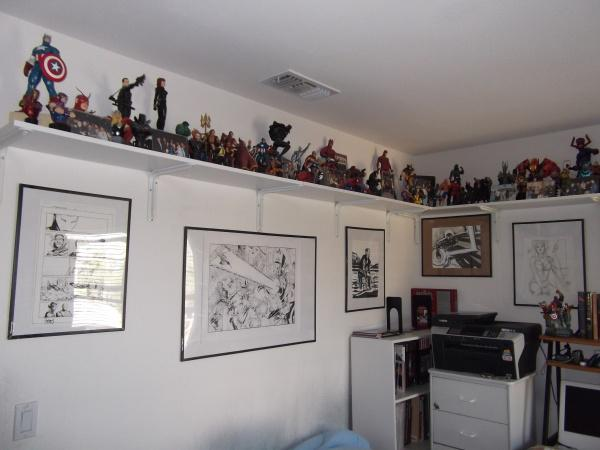Printer: (431, 310, 542, 381)
